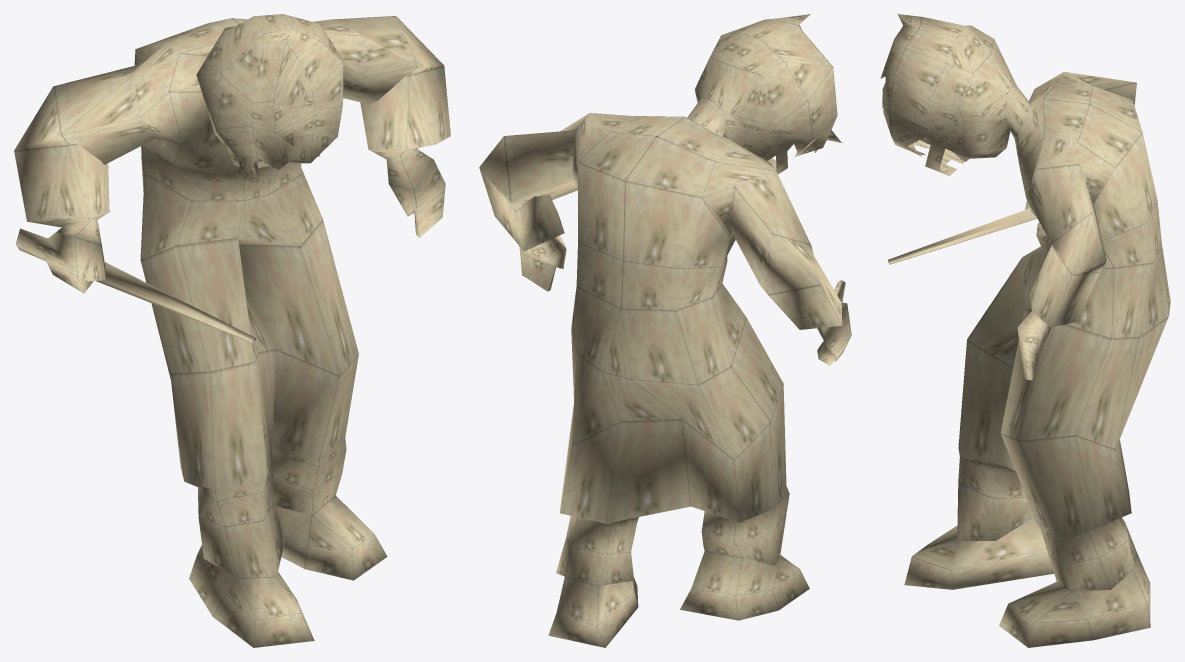
3 renders of one model, left to right at view 1: azimuth 30°, elevation 25°; view 2: azimuth 150°, elevation 25°; view 3: azimuth 270°, elevation 25°, orthographic. The views are drawn at different scales.
Visible parts, largest first — view 1: T1L8M001_0; view 2: T1L8M001_0; view 3: T1L8M001_0.
Boxes of the visible parts, <box> form: T1L8M001_0: <box>14,14,450,647</box>; T1L8M001_0: <box>479,14,851,647</box>; T1L8M001_0: <box>880,14,1170,647</box>.
Size of the model in its own units: 0.8007 by 1.15 by 0.546.
